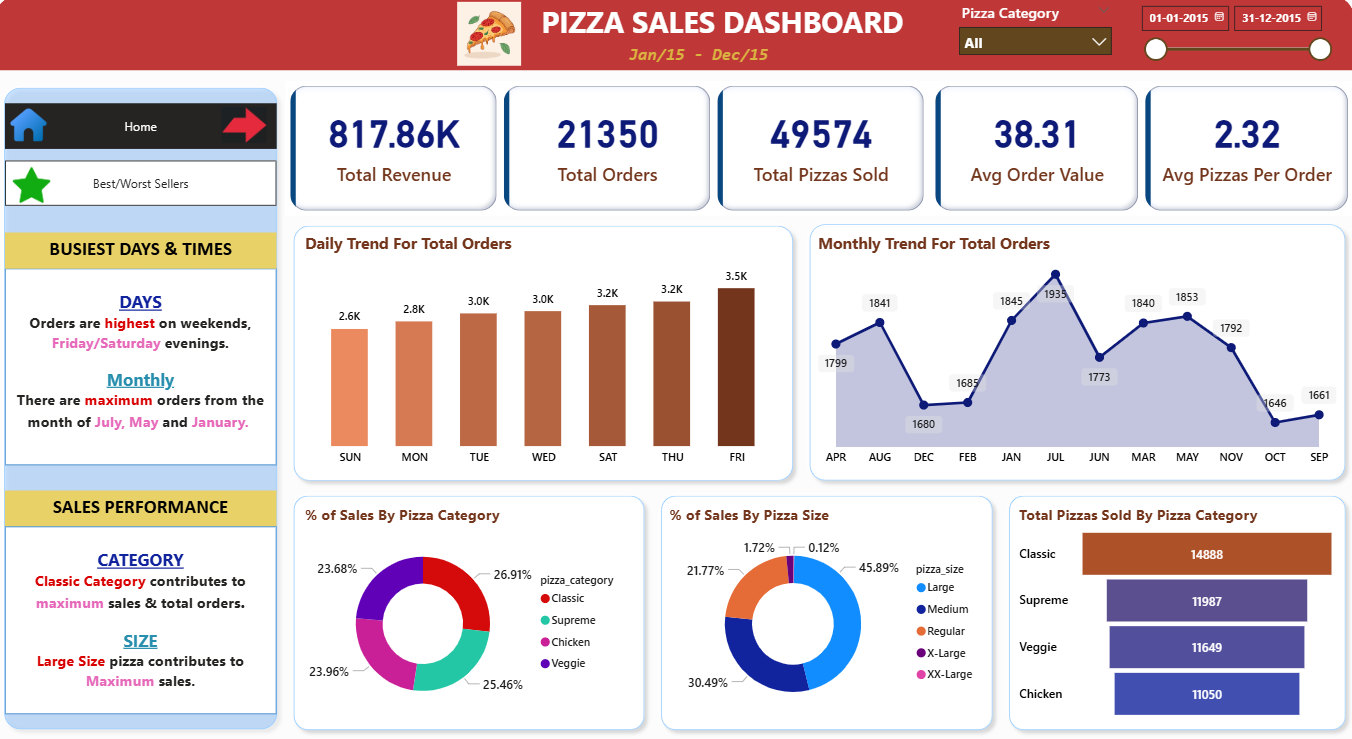

The page's visual inventory and layout, read from the dashboard file:
{"tool":"powerbi","page":{"name":"Home","canvas":[1500,820],"ordinal":0},"visuals":[{"type":"cardVisual","fields":{"Data":["Pizza_Sales.Total Revenue","Pizza_Sales.Total Orders","Pizza_Sales.Total Pizzas Sold"]},"box":[320,92.9,712.9,148.6],"z":0},{"type":"cardVisual","fields":{"Data":["Pizza_Sales.Avg Order Value","Pizza_Sales.Avg Pizzas Per Order"]},"box":[1032.9,92.9,467.1,148.6],"z":1000},{"type":"shape","box":[0,0,1500,81.2],"z":2000},{"type":"textbox","box":[594.3,0,418.8,64.1],"z":3000},{"type":"textbox","box":[680,46.7,193.3,35],"z":4000},{"type":"image","box":[496.2,0,98.1,81.1],"z":5000},{"type":"shape","box":[320,242.9,570,300],"z":6000},{"type":"shape","box":[890,241.4,610,301.4],"z":7000},{"type":"columnChart","title":"Daily Trend For Total Orders","fields":{"Category":["Pizza_Sales.Order Day"],"Y":["Pizza_Sales.Total Orders"]},"box":[335.7,260,537.1,265.7],"z":8000},{"type":"areaChart","title":"Monthly Trend For Total Orders","fields":{"Category":["Pizza_Sales.Order Month"],"Y":["Pizza_Sales.Total Orders"]},"box":[902.9,260,582.9,265.7],"z":9000},{"type":"shape","box":[320,542.9,405.7,277.1],"z":10000},{"type":"shape","box":[725.7,542.9,384.3,277.1],"z":11000},{"type":"shape","box":[1110,542.9,390,277.1],"z":12000},{"type":"donutChart","title":"% of Sales By Pizza Category ","fields":{"Category":["Pizza_Sales.pizza_category"],"Y":["Pizza_Sales.Total Revenue"]},"box":[335.7,560,372.9,242.9],"z":13000},{"type":"donutChart","title":"% of Sales By Pizza Size","fields":{"Category":["Pizza_Sales.pizza_size"],"Y":["Pizza_Sales.Total Revenue"]},"box":[738.6,560,357.1,242.9],"z":14000},{"type":"funnel","title":"Total Pizzas Sold By Pizza Category","fields":{"Category":["Pizza_Sales.pizza_category"],"Y":["Pizza_Sales.Total Pizzas Sold"]},"box":[1125.7,560,360,242.9],"z":15000},{"type":"shape","box":[0,91.4,320,727.1],"z":16000},{"type":"textbox","box":[10,300,300,217.1],"z":17000},{"type":"textbox","box":[10,260,300,40],"z":18000},{"type":"textbox","box":[10,545.7,300,40],"z":19000},{"type":"textbox","box":[10,585.7,300,207.1],"z":20000},{"type":"slicer","fields":{"Values":["Pizza_Sales.pizza_category"]},"box":[1053.8,0,188.8,81.2],"z":21000},{"type":"slicer","fields":{"Values":["Pizza_Sales.order_date"]},"box":[1253.8,0,231.2,81.2],"z":22000},{"type":"pageNavigator","box":[10,117.1,300,50],"z":23000},{"type":"pageNavigator","box":[10,181.4,300,50],"z":24000},{"type":"image","box":[238.3,116.7,71.7,50],"z":25000},{"type":"image","box":[10,116.7,52.2,50],"z":26000},{"type":"image","box":[10,181.5,59.2,50],"z":27000}]}

Visuals, with their boxes in screenshot pixels (x1, y1, x2, y2), scaled from the page's 1500x820 canvas onto the 1352x739 screenshot:
cardVisual - Pizza_Sales.Total Revenue x Pizza_Sales.Total Orders: 288/84/931/218
cardVisual - Pizza_Sales.Avg Order Value x Pizza_Sales.Avg Pizzas Per Order: 931/84/1351/218
shape: 0/0/1351/73
textbox: 536/0/913/58
textbox: 613/42/787/74
image: 447/0/536/73
shape: 288/219/802/489
shape: 802/218/1351/489
"Daily Trend For Total Orders" columnChart: 303/234/787/474
"Monthly Trend For Total Orders" areaChart: 814/234/1339/474
shape: 288/489/654/738
shape: 654/489/1000/738
shape: 1000/489/1351/738
"% of Sales By Pizza Category " donutChart: 303/505/639/724
"% of Sales By Pizza Size" donutChart: 666/505/988/724
"Total Pizzas Sold By Pizza Category" funnel: 1015/505/1339/724
shape: 0/82/288/738
textbox: 9/270/279/466
textbox: 9/234/279/270
textbox: 9/492/279/528
textbox: 9/528/279/714
slicer - Pizza_Sales.pizza_category: 950/0/1120/73
slicer - Pizza_Sales.order_date: 1130/0/1338/73
pageNavigator: 9/106/279/151
pageNavigator: 9/163/279/209
image: 215/105/279/150
image: 9/105/56/150
image: 9/164/62/209
